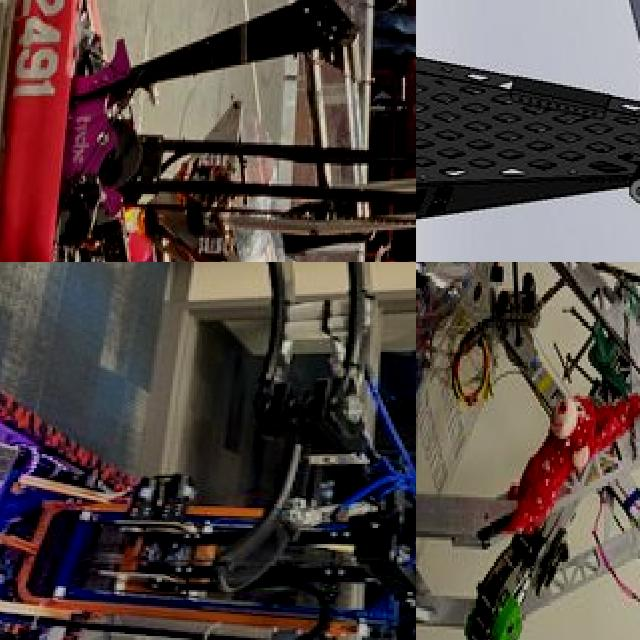FRC-Robots: (0, 262, 416, 640), (0, 0, 416, 262), (416, 262, 640, 640), (416, 0, 640, 262)
